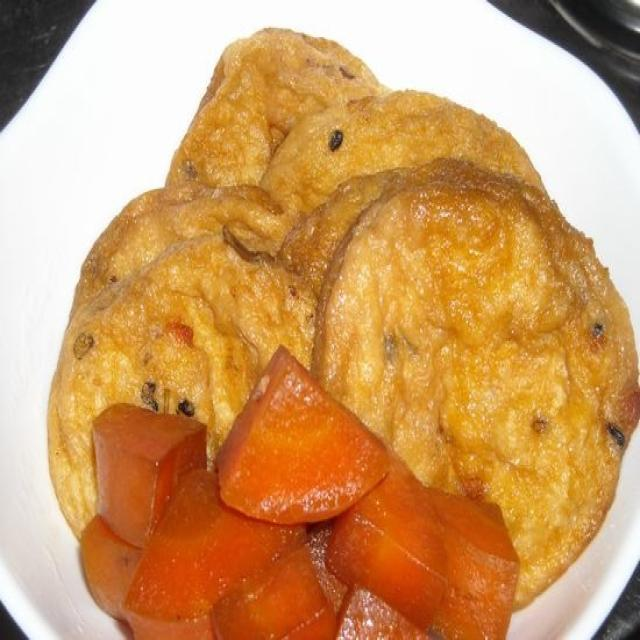熟制海鲜: (44, 20, 634, 634)
